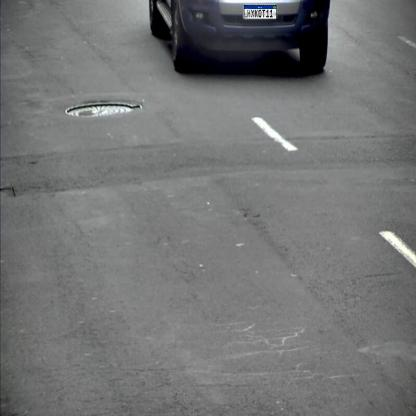PlacaM: (244, 5, 277, 19)
